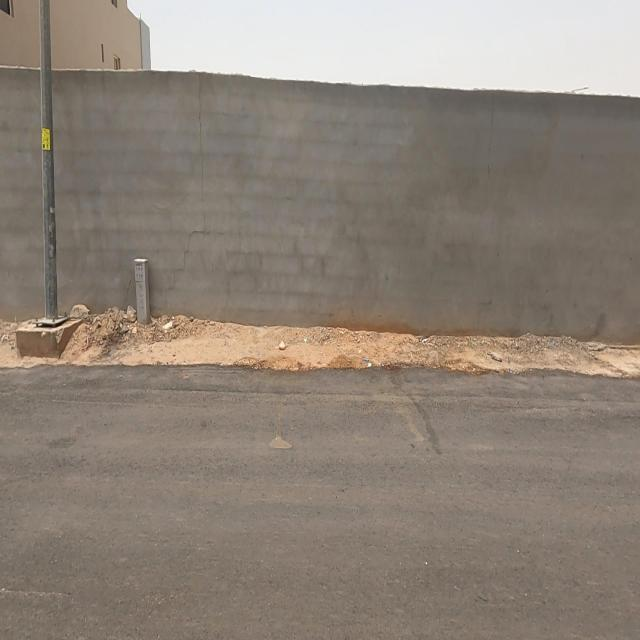debris: (88, 256, 162, 384), (151, 289, 193, 365), (253, 314, 306, 374)
